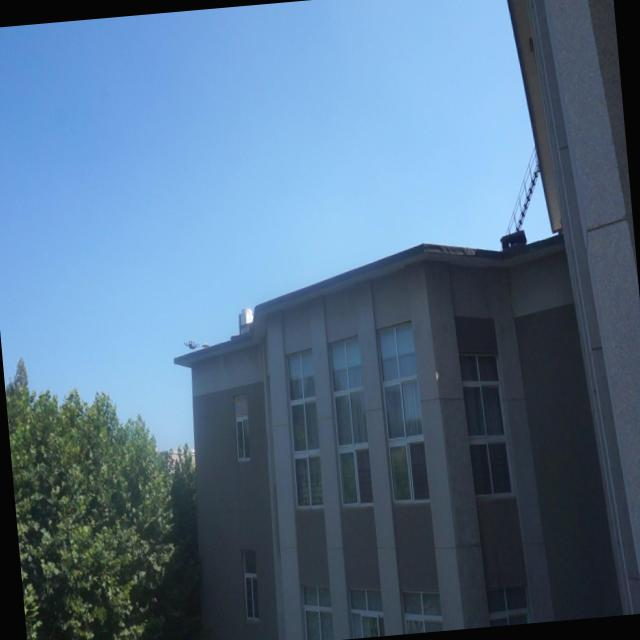drone: (178, 332, 203, 352)
